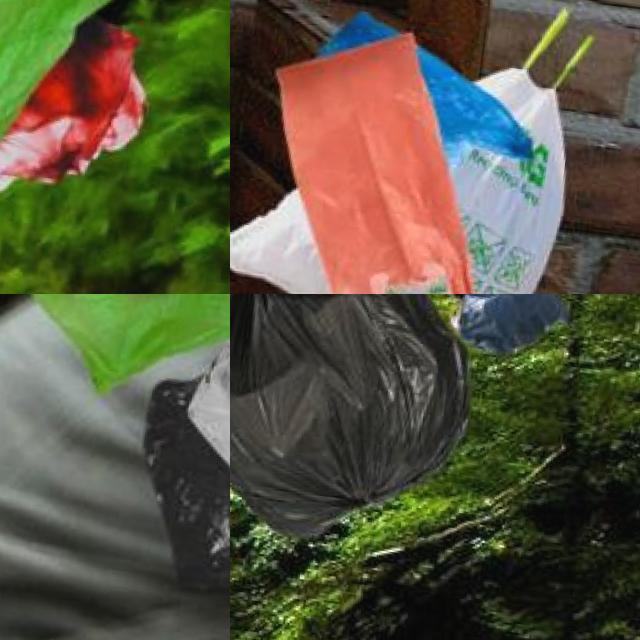waste: (230, 43, 577, 294), (263, 11, 541, 294), (230, 294, 488, 543), (0, 0, 152, 274), (137, 359, 230, 619), (8, 294, 230, 397), (452, 294, 570, 358)
